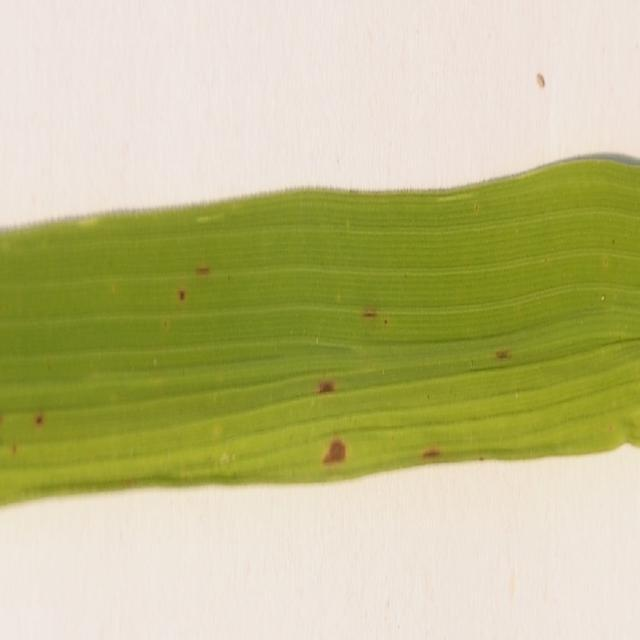brownspots: (494, 340, 522, 390), (323, 429, 350, 476), (313, 356, 337, 400), (193, 236, 213, 286), (1, 408, 17, 461), (358, 300, 381, 336), (422, 429, 440, 474), (31, 400, 48, 432), (174, 280, 190, 310)
